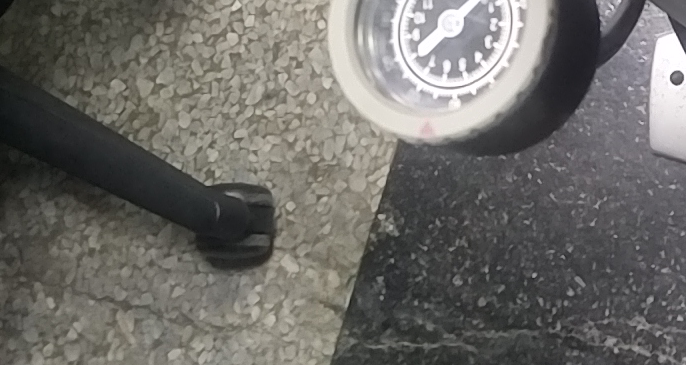Round_Meter: (349, 1, 536, 122)
